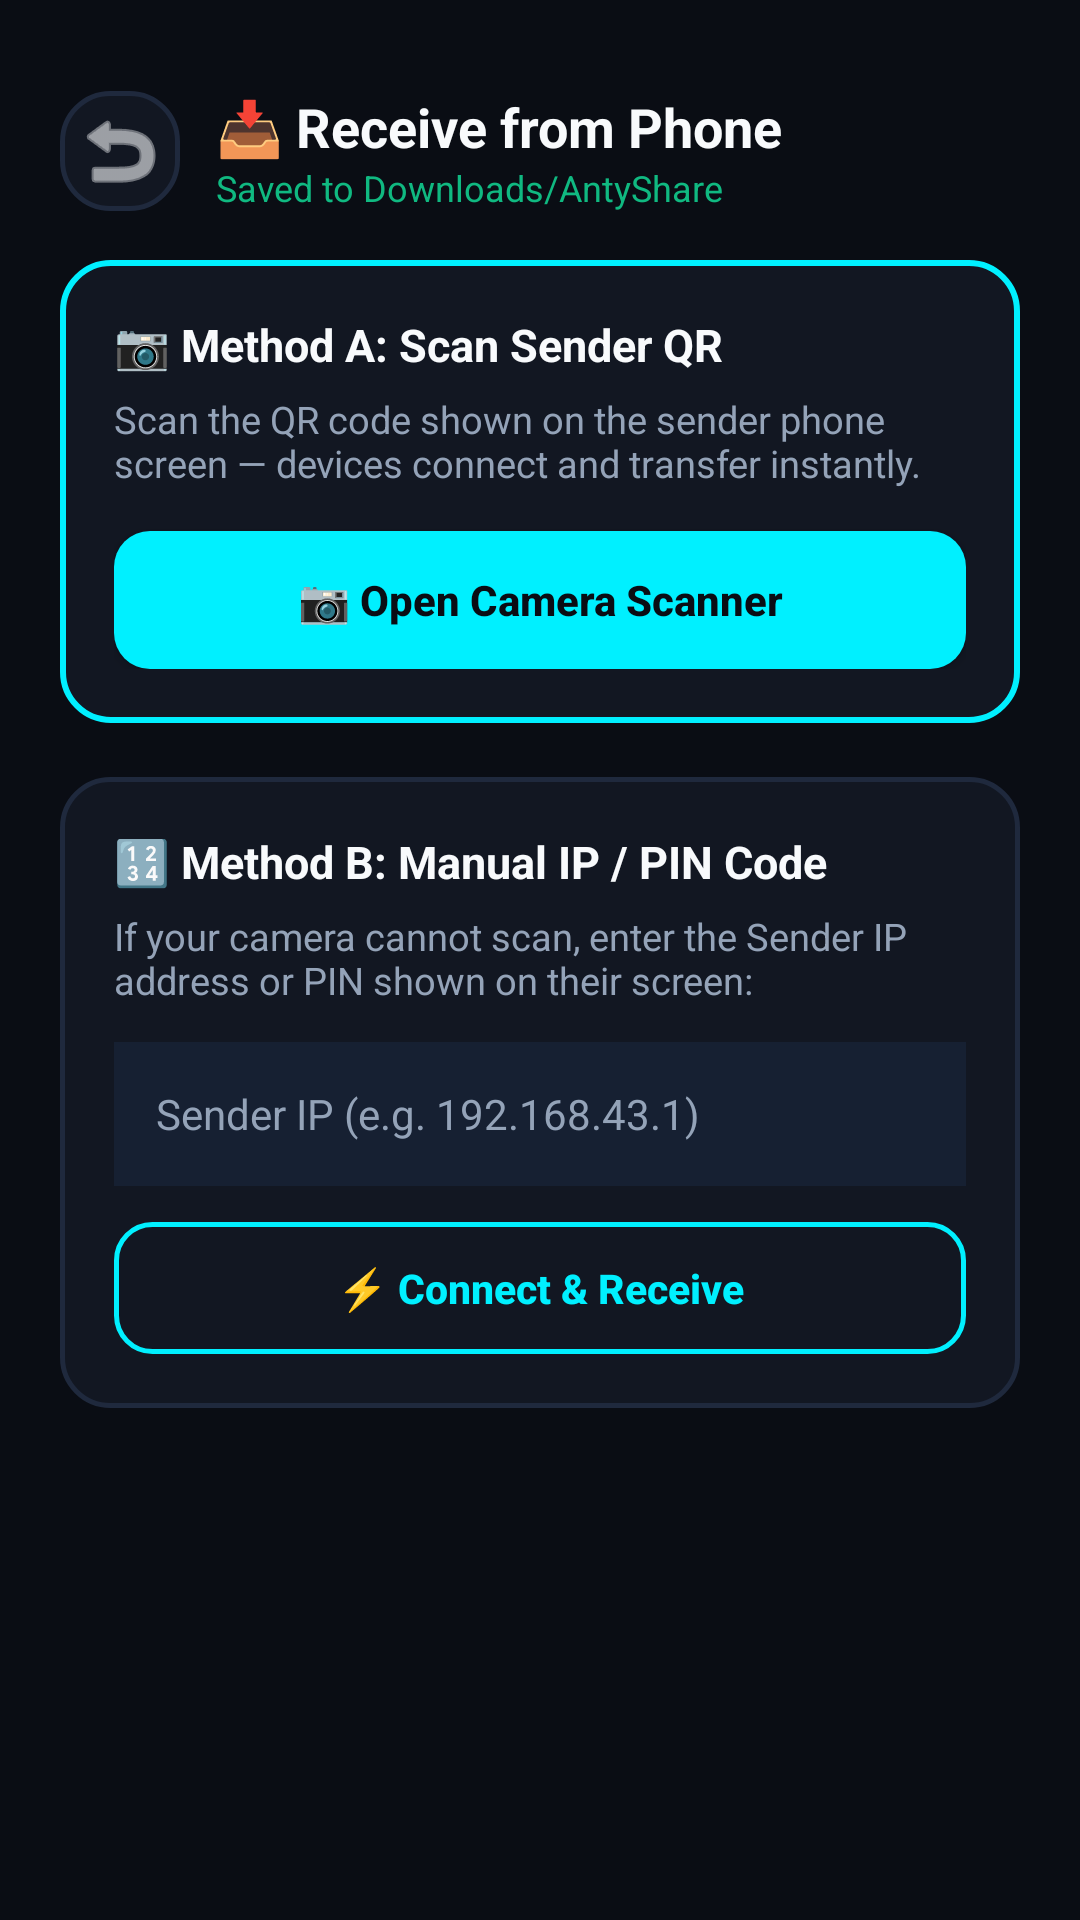

Point at icon controls on the screen. Image size 1080px×1920px, points as (x,y).
Back: (120,151)
